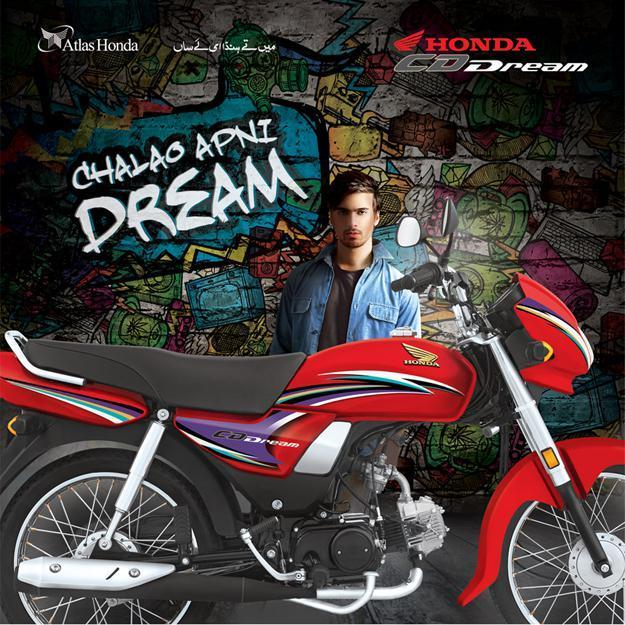motorcycle: (0, 188, 616, 624)
